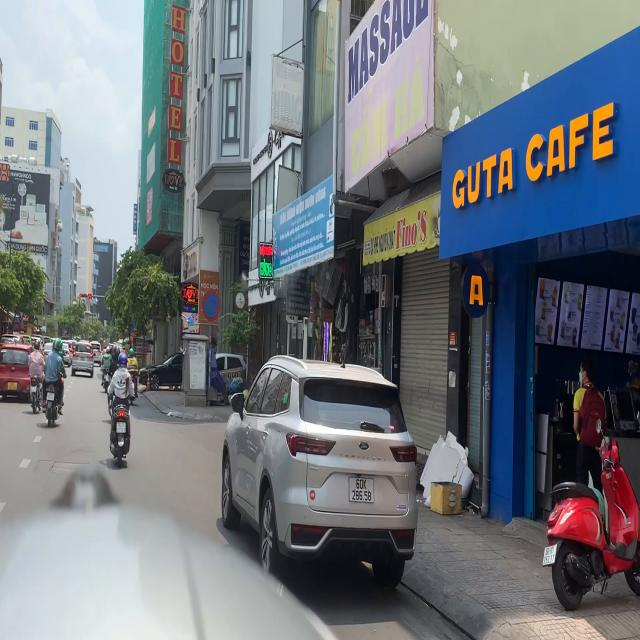Cam do: (202, 289, 220, 322)
